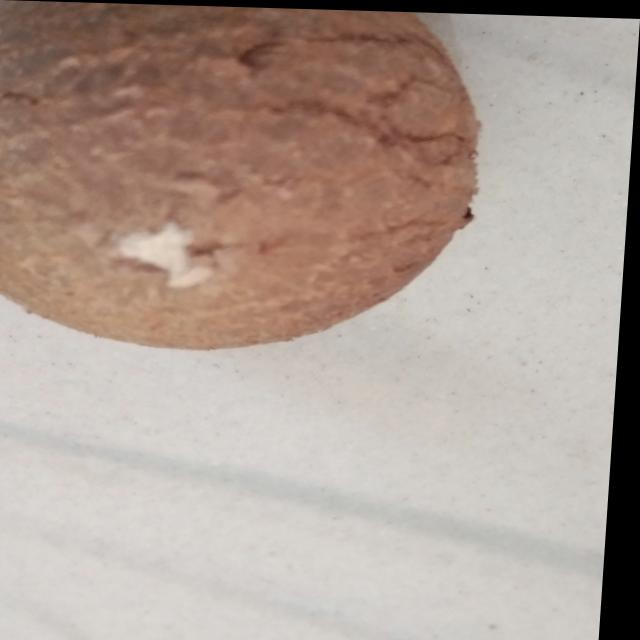good: (0, 0, 554, 373)
